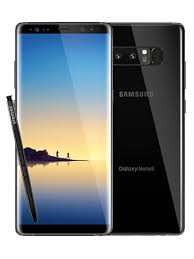samsung: (12, 19, 114, 236), (108, 19, 189, 237)
